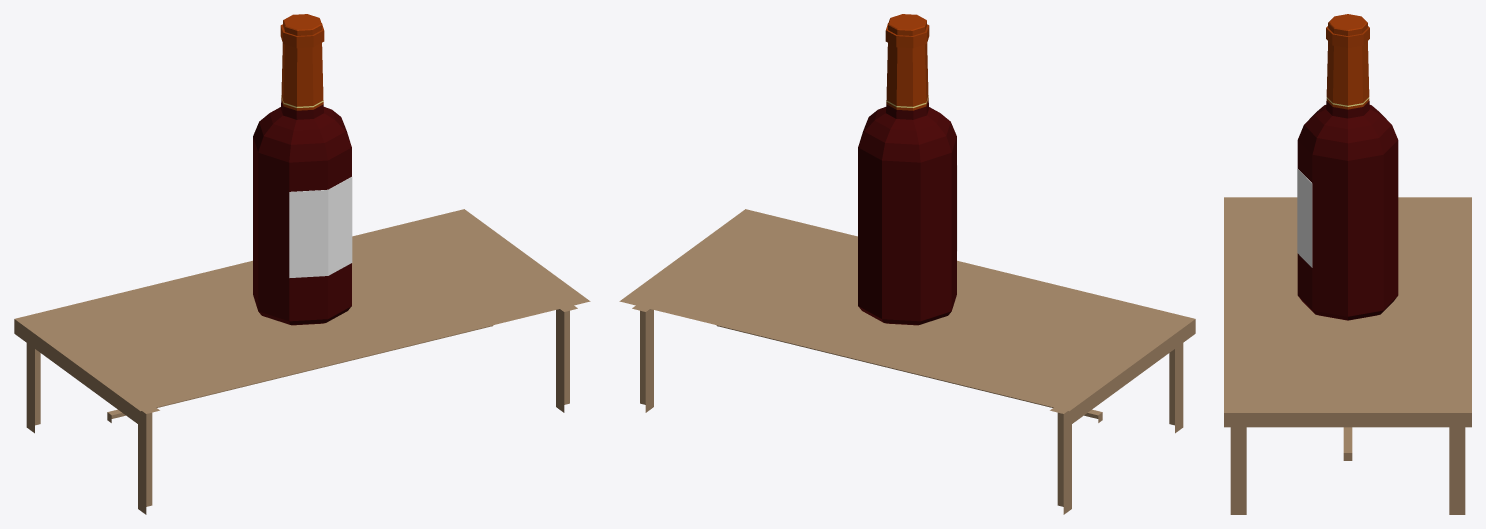
The model's file is bebida_mesa.glb.
The picture shows the model from 3 angles, left to right: view 1: azimuth 30°, elevation 25°; view 2: azimuth 150°, elevation 25°; view 3: azimuth 270°, elevation 25°; orthographic projection.
Parts seen in each view (by area): view 1: tablero, Node, pata (×3), refuerzo; view 2: tablero, Node, pata (×3), refuerzo; view 3: tablero, Node, pata (×2), refuerzo.
Boxes of the visible parts, box(x1,y1,x2,y2) form: tablero: box(14, 209, 590, 425); Node: box(253, 14, 352, 325); pata (×3): box(26, 305, 577, 514); refuerzo: box(107, 325, 493, 422); tablero: box(619, 209, 1195, 425); Node: box(858, 14, 957, 325); pata (×3): box(632, 305, 1183, 514); refuerzo: box(716, 325, 1102, 422); tablero: box(1224, 197, 1471, 427); Node: box(1297, 14, 1398, 320); pata (×2): box(1230, 427, 1465, 514); refuerzo: box(1343, 427, 1352, 460).
Size of the model in its own units: 7 by 5.89 by 3.4.
